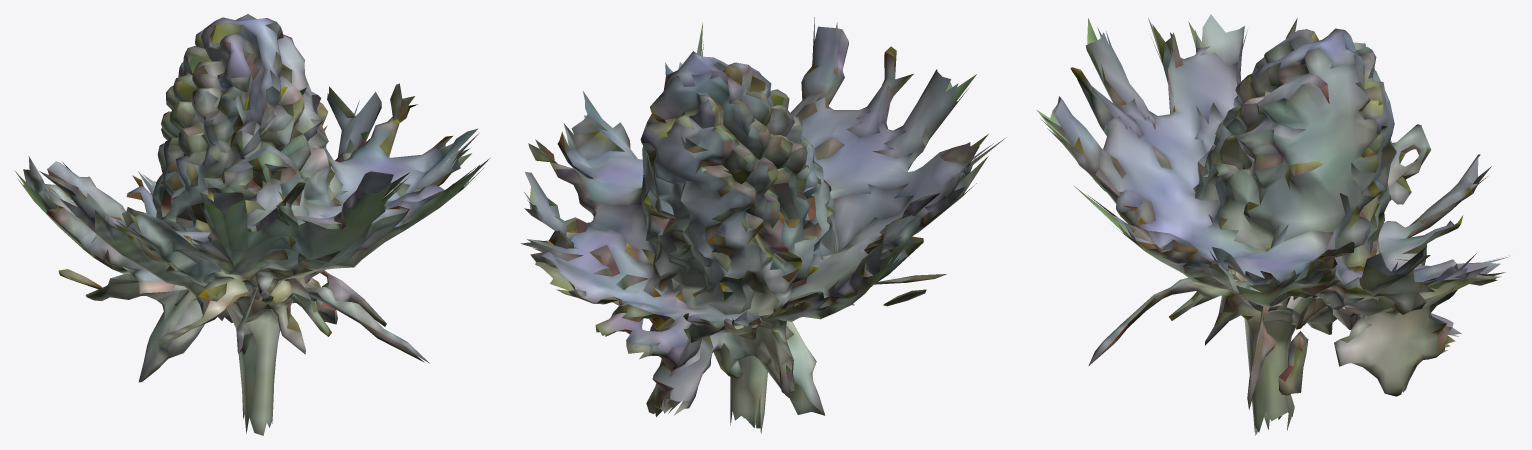
File: eryngium.glb
The picture shows the model from 3 angles, left to right: view 1: azimuth 30°, elevation 25°; view 2: azimuth 150°, elevation 25°; view 3: azimuth 270°, elevation 25°; orthographic projection. The views are drawn at different scales.
Parts seen in each view (by area): view 1: Object_2; view 2: Object_2; view 3: Object_2.
Boxes of the visible parts, box(x1,y1,x2,y2) form: Object_2: box(14, 14, 490, 435); Object_2: box(521, 17, 1006, 433); Object_2: box(1036, 14, 1509, 435).
Bounding box in the file's own units: 0.25 × 0.2283 × 0.2451.
1 material, 1 textured.
